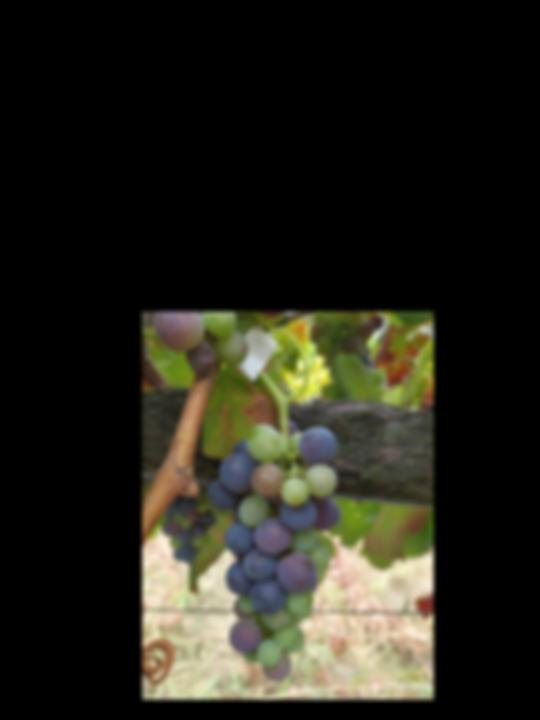grape: (205, 425, 342, 684)
